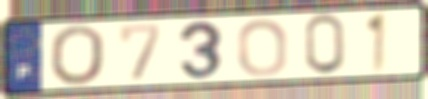0: (302, 12, 348, 78)
1: (363, 9, 393, 76)
3: (173, 18, 229, 81)
7: (115, 22, 163, 83)
O: (47, 23, 108, 87), (235, 17, 290, 79)
